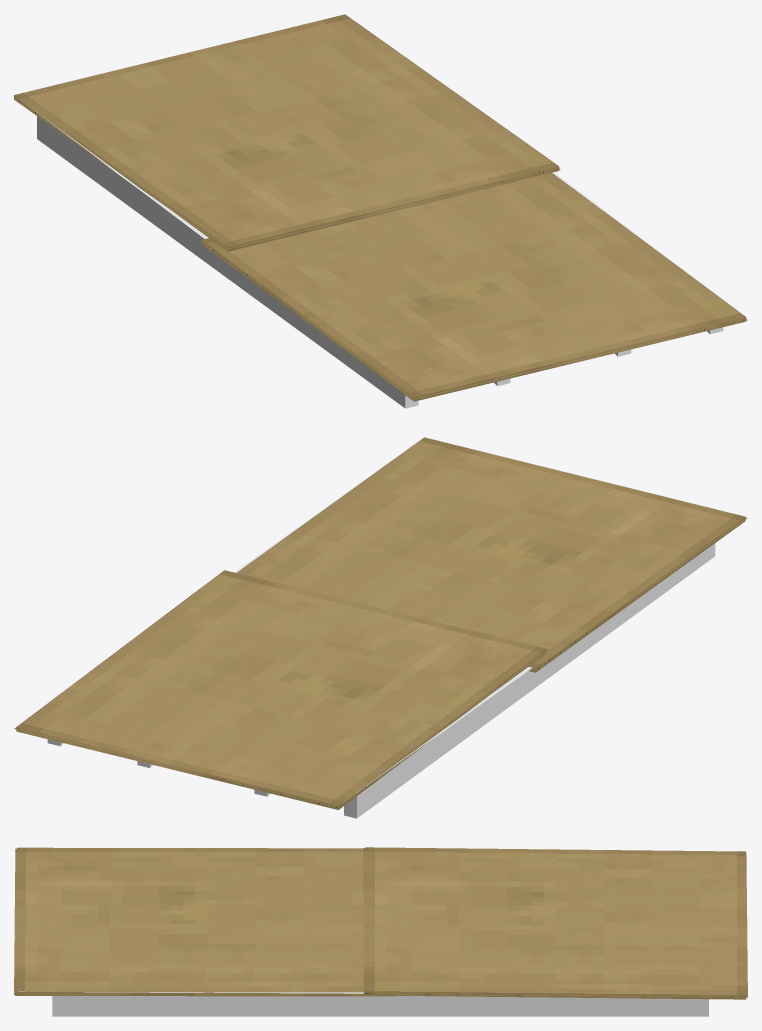
Rendered from objects_un_base_board03_half.gltf.
The picture shows the model from 3 angles, top to bottom: view 1: azimuth 30°, elevation 25°; view 2: azimuth 150°, elevation 25°; view 3: azimuth 270°, elevation 25°; orthographic projection. The views are drawn at different scales.
Visible parts, largest first — view 1: um_objects_un_base_board03_half_model_lod0Shape:objects_un_b (×3), um_objects_un_base_board03_half_model_lod1Shape:objects_un_b; view 2: um_objects_un_base_board03_half_model_lod0Shape:objects_un_b (×3), um_objects_un_base_board03_half_model_lod1Shape:objects_un_b; view 3: um_objects_un_base_board03_half_model_lod0Shape:objects_un_b (×3), um_objects_un_base_board03_half_model_lod1Shape:objects_un_b.
Part boxes in pixels (<box>): um_objects_un_base_board03_half_model_lod0Shape:objects_un_b (×3): <box>14,14,746,408</box>; um_objects_un_base_board03_half_model_lod1Shape:objects_un_b: <box>14,94,747,399</box>; um_objects_un_base_board03_half_model_lod0Shape:objects_un_b (×3): <box>16,437,745,818</box>; um_objects_un_base_board03_half_model_lod1Shape:objects_un_b: <box>14,517,747,809</box>; um_objects_un_base_board03_half_model_lod0Shape:objects_un_b (×3): <box>15,847,746,1016</box>; um_objects_un_base_board03_half_model_lod1Shape:objects_un_b: <box>14,848,747,997</box>.
Size of the model in its own units: 2.58 by 0.2428 by 5.37.
Materials: 3 (1 with a texture image).
